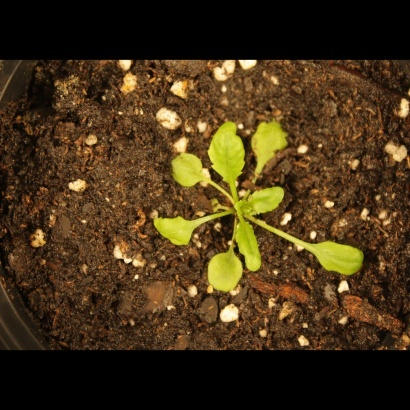leaf: (284, 236, 375, 285), (207, 118, 251, 193), (250, 112, 292, 175), (202, 244, 245, 298), (234, 218, 265, 279), (151, 213, 203, 249), (166, 148, 205, 193), (241, 184, 289, 216)
